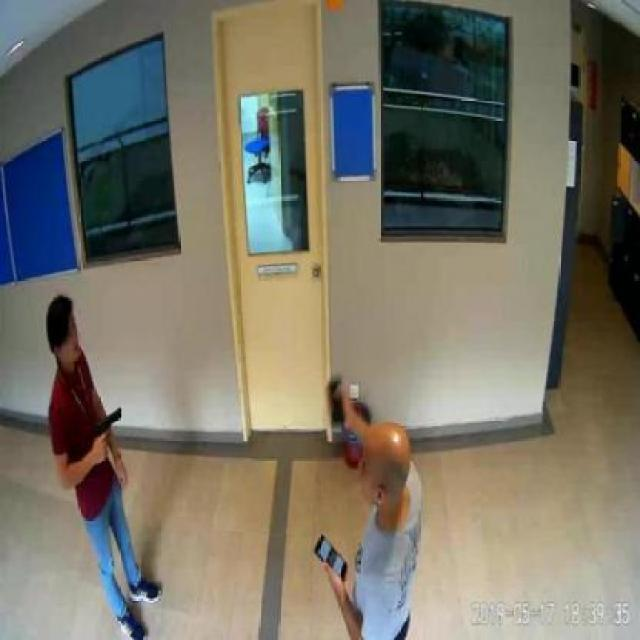gun: (93, 404, 119, 456)
